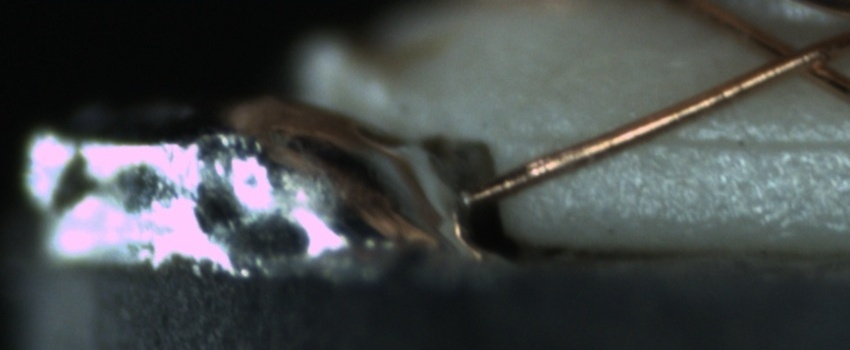CL: (743, 28, 841, 89)
DL: (533, 111, 850, 172)
